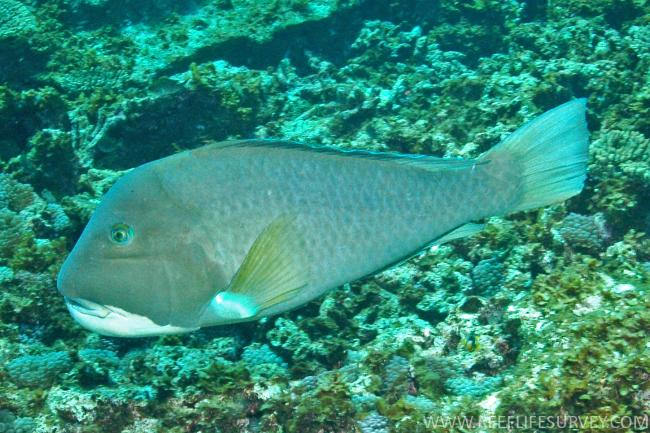fish: (58, 96, 589, 335)
